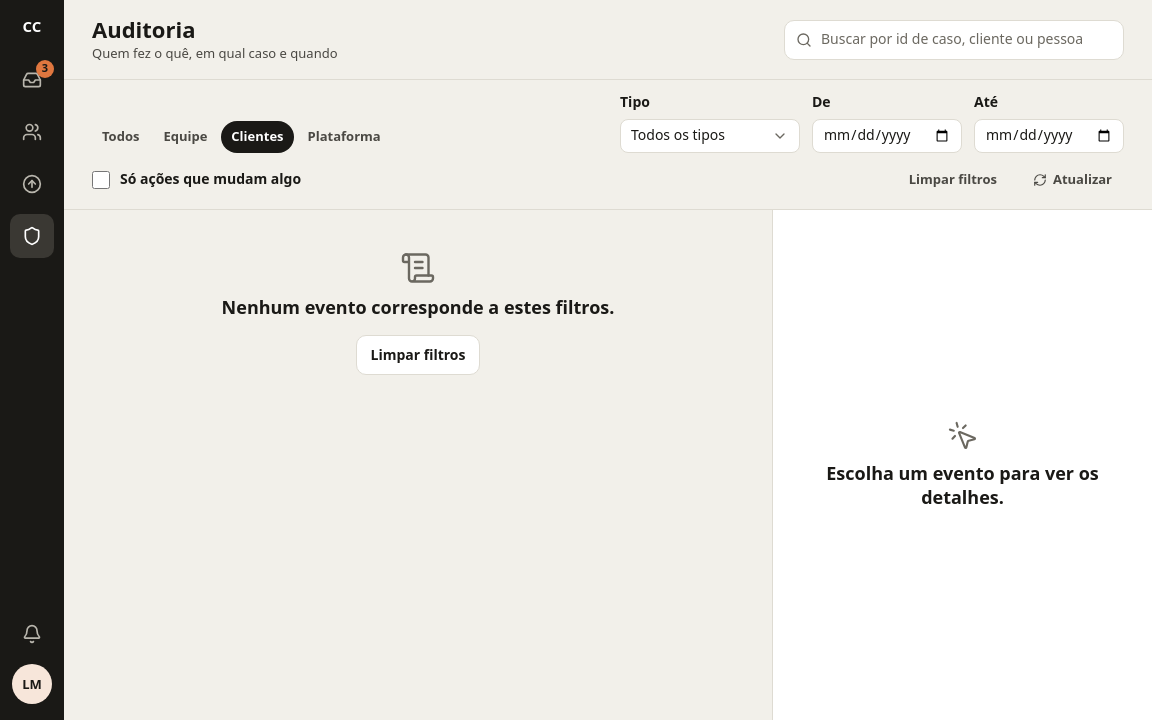
Auditoria in Brazilian Portuguese › offers to clear the filters when nothing matches
Check: the heading "Nenhum evento corresponde a estes filtros." is shown, box x1=222 y1=296 x2=614 y2=319
Click the button "Limpar filtros" in the row of "Só ações que mudam algo". click: [953, 180]
box: x1=897 y1=162 x2=1009 y2=196
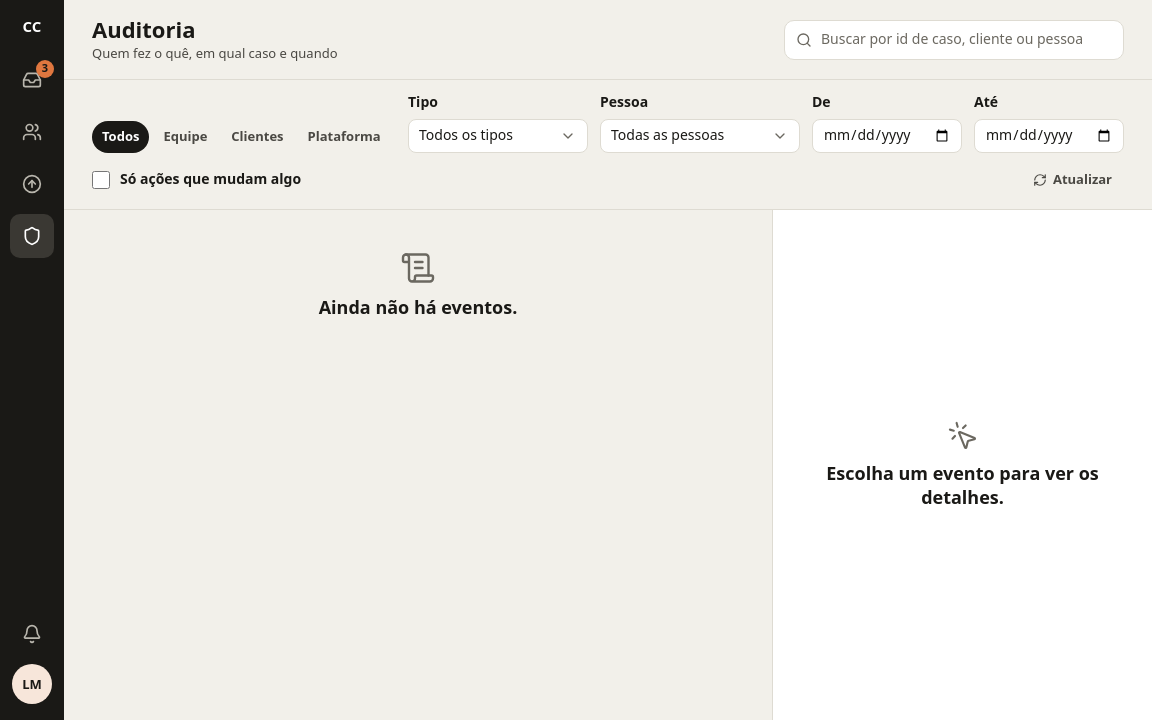
Check: the heading "Ainda não há eventos." is shown, box x1=319 y1=296 x2=517 y2=319
